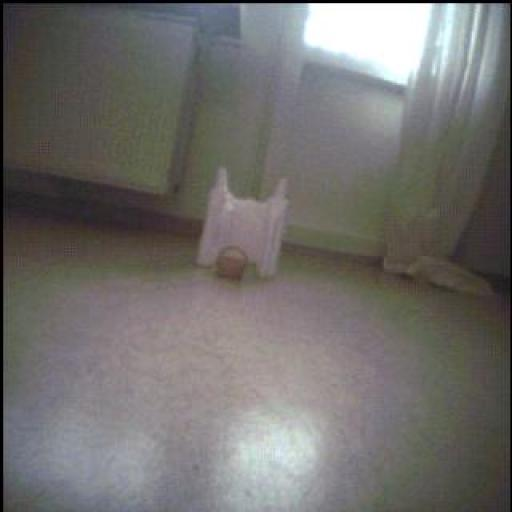Basket: (217, 247, 249, 281)
